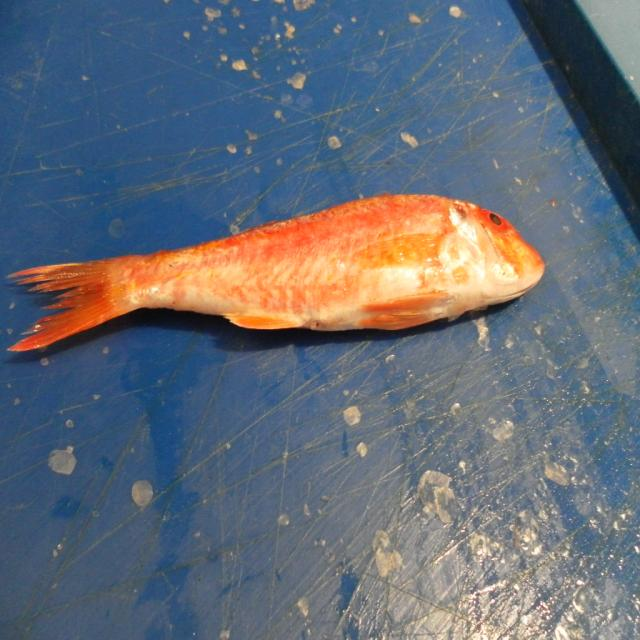Red-Mullet-kefal-: (11, 194, 546, 357)
